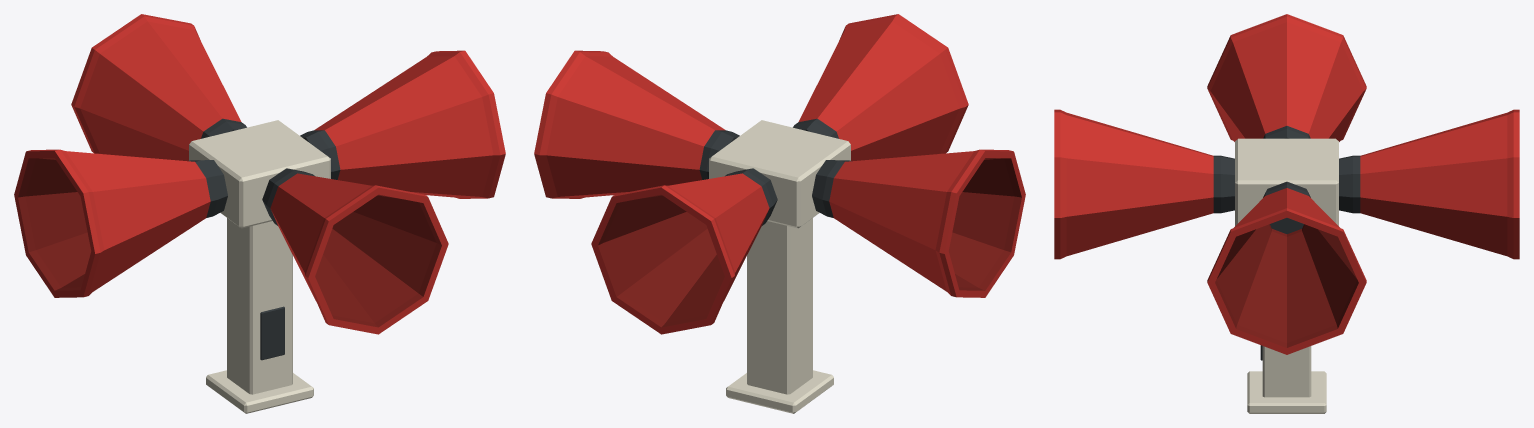
The model's file is NoiseEmitter_Assembly.fbx.
3 renders of one model, left to right at view 1: azimuth 30°, elevation 25°; view 2: azimuth 150°, elevation 25°; view 3: azimuth 270°, elevation 25°, orthographic.
Parts seen in each view (by area): view 1: SM_NoiseEmitter_Horn.002, SM_NoiseEmitter_Horn.003, SM_NoiseEmitter_Body, SM_NoiseEmitter_Horn, SM_NoiseEmitter_Horn.001; view 2: SM_NoiseEmitter_Horn.002, SM_NoiseEmitter_Horn.001, SM_NoiseEmitter_Body, SM_NoiseEmitter_Horn, SM_NoiseEmitter_Horn.003; view 3: SM_NoiseEmitter_Horn, SM_NoiseEmitter_Horn.001, SM_NoiseEmitter_Horn.003, SM_NoiseEmitter_Horn.002, SM_NoiseEmitter_Body.
Boxes of the visible parts, bbox=[...] form: SM_NoiseEmitter_Horn.002: bbox=[14, 149, 227, 297]; SM_NoiseEmitter_Horn.003: bbox=[262, 168, 448, 334]; SM_NoiseEmitter_Body: bbox=[189, 120, 330, 413]; SM_NoiseEmitter_Horn: bbox=[300, 50, 505, 198]; SM_NoiseEmitter_Horn.001: bbox=[71, 14, 246, 161]; SM_NoiseEmitter_Horn.002: bbox=[812, 149, 1025, 297]; SM_NoiseEmitter_Horn.001: bbox=[591, 168, 777, 334]; SM_NoiseEmitter_Body: bbox=[709, 120, 850, 413]; SM_NoiseEmitter_Horn: bbox=[534, 50, 739, 198]; SM_NoiseEmitter_Horn.003: bbox=[793, 14, 968, 161]; SM_NoiseEmitter_Horn: bbox=[1207, 181, 1366, 354]; SM_NoiseEmitter_Horn.001: bbox=[1339, 109, 1519, 259]; SM_NoiseEmitter_Horn.003: bbox=[1054, 109, 1234, 259]; SM_NoiseEmitter_Horn.002: bbox=[1207, 14, 1366, 141]; SM_NoiseEmitter_Body: bbox=[1235, 138, 1338, 413].
Bounding box in the file's own units: 304 × 304 × 206.
